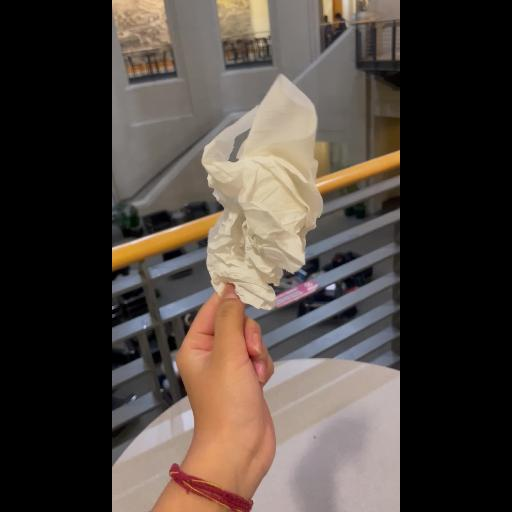napkin: (200, 74, 324, 310)
